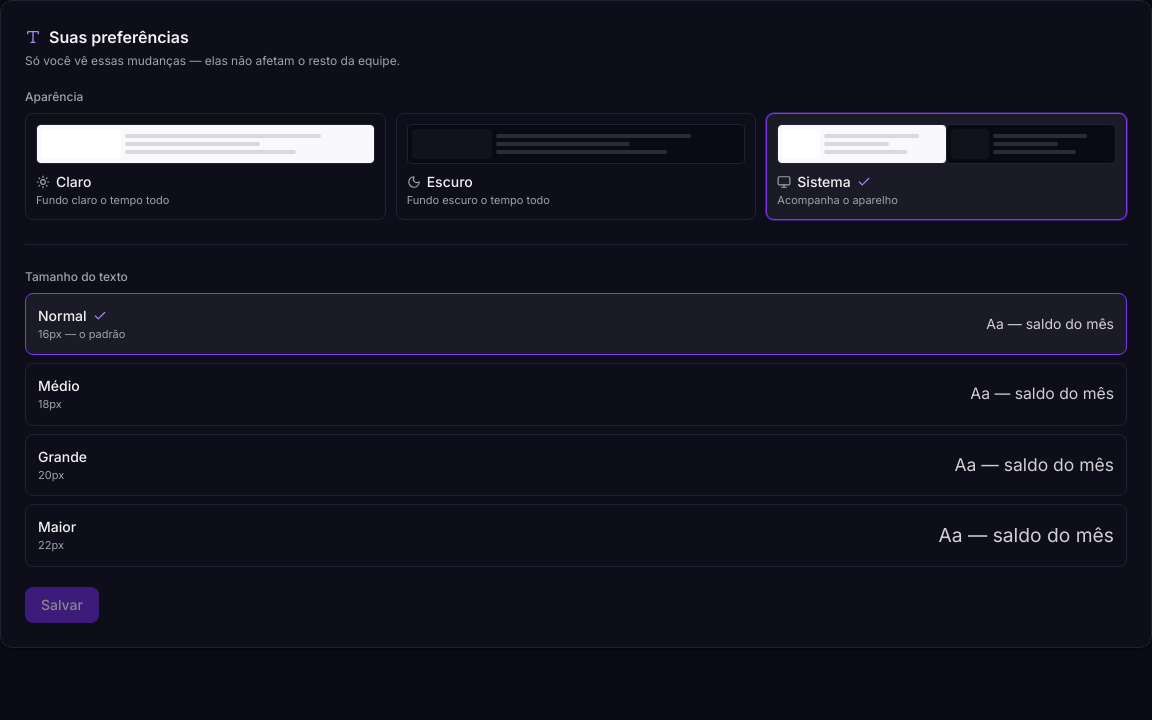
Test: Suas preferências › sem mudança, o botão fica inativo
The image size is (1152, 720).
Expected: the button "Salvar" is disabled, [25,586,99,622]
Step 1. Click the radio button labelled "Médio" → (59, 386), box [25,363,1127,426]
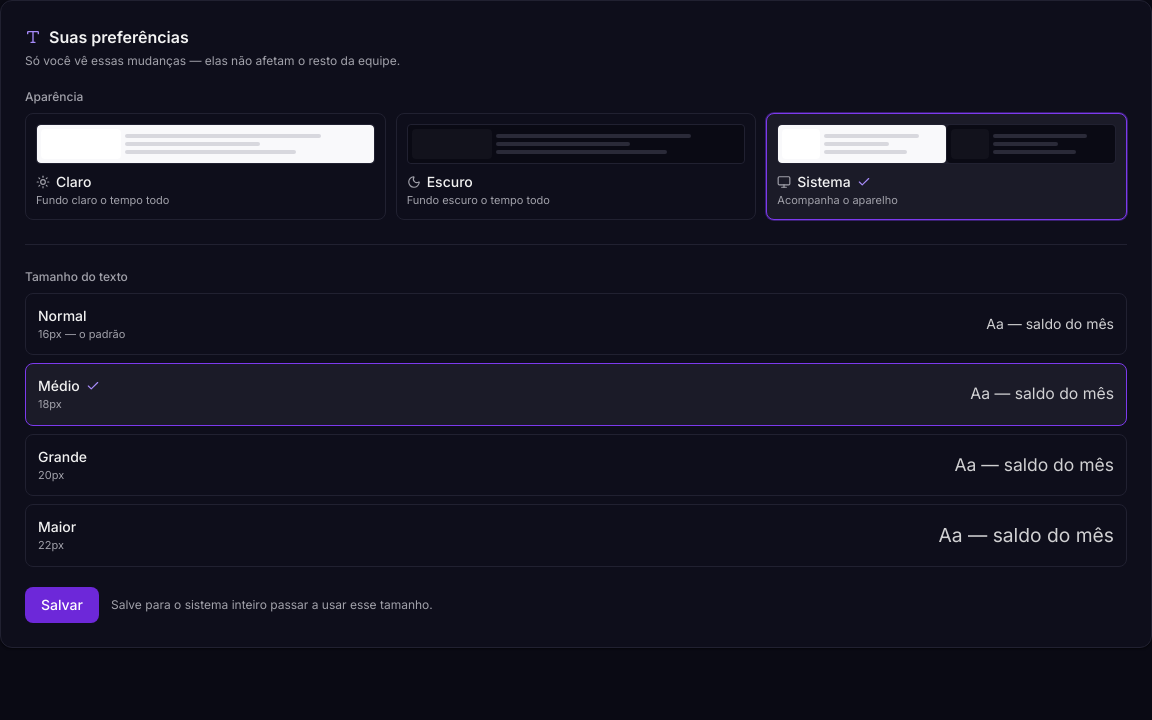
Now the button "Salvar" is enabled, box [25,586,99,622]
